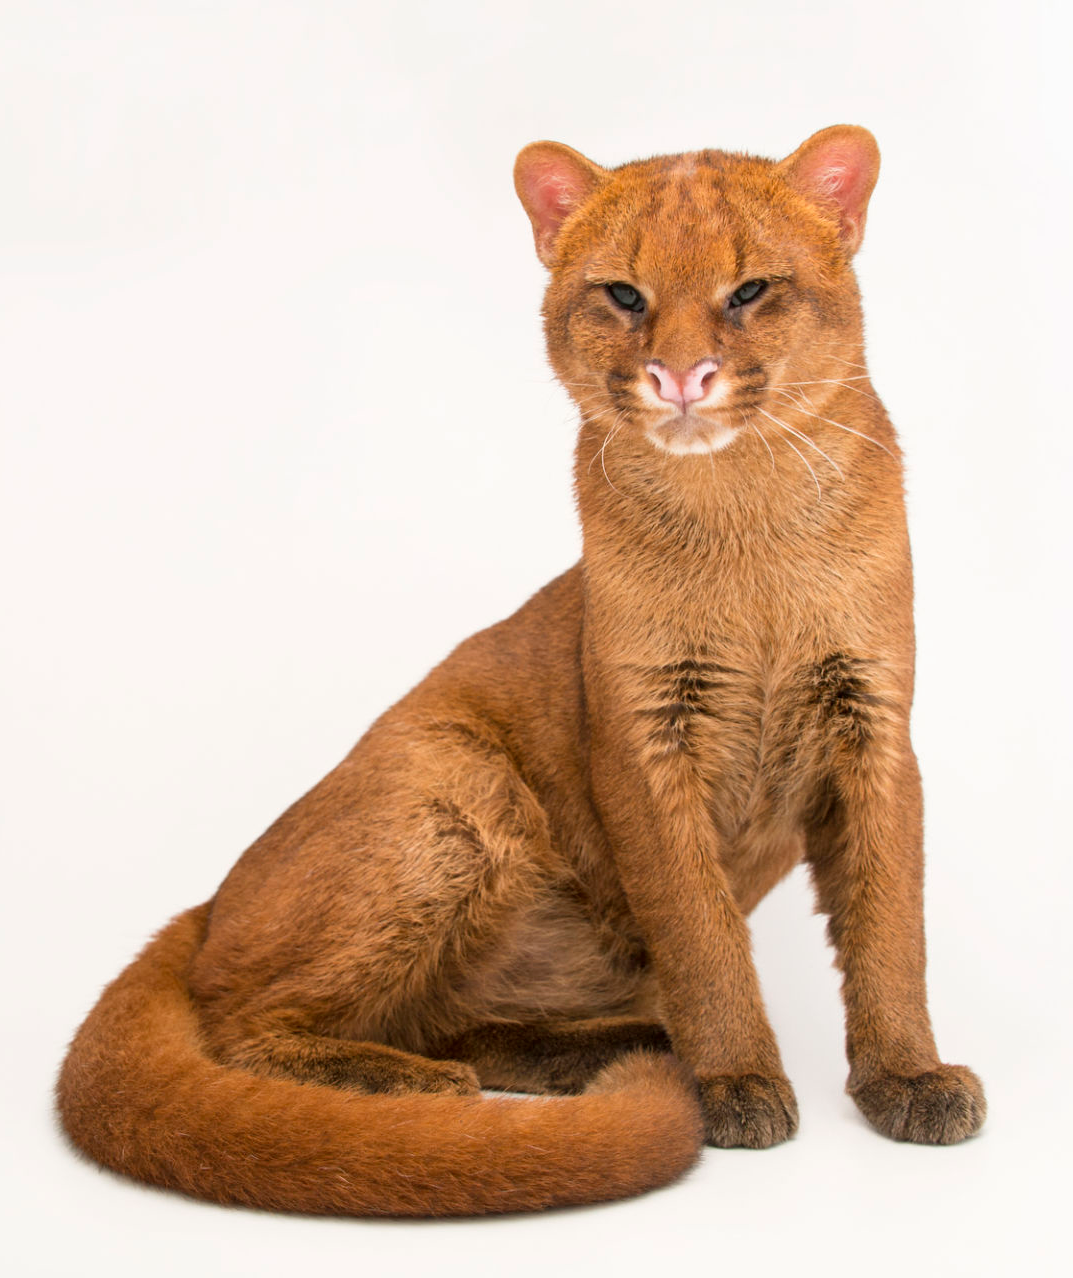Jaguarundi: (36, 114, 1022, 1231)
